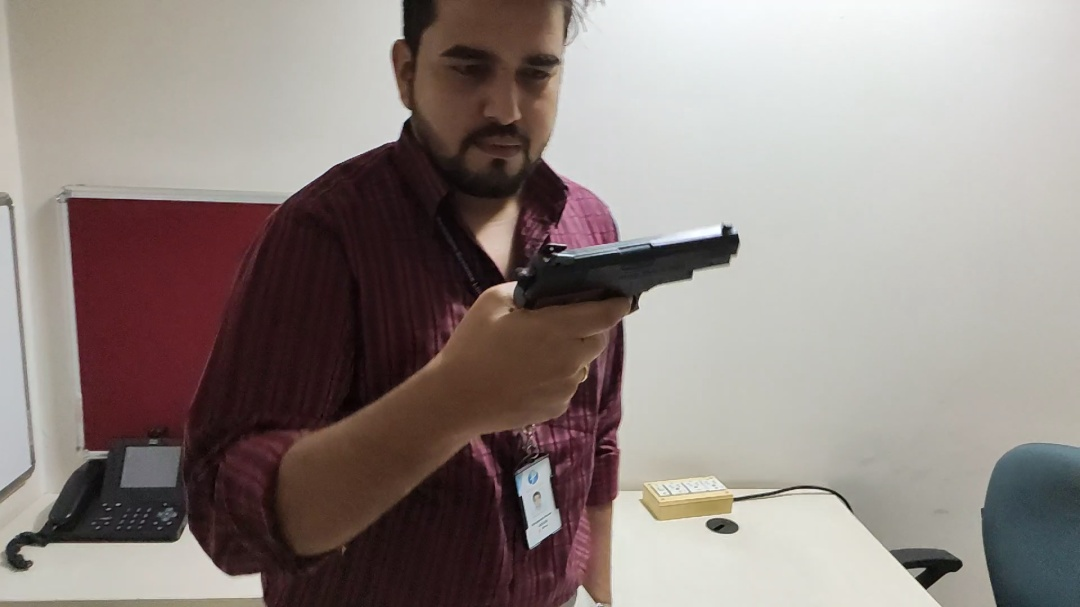gun: (395, 254, 433, 272)
